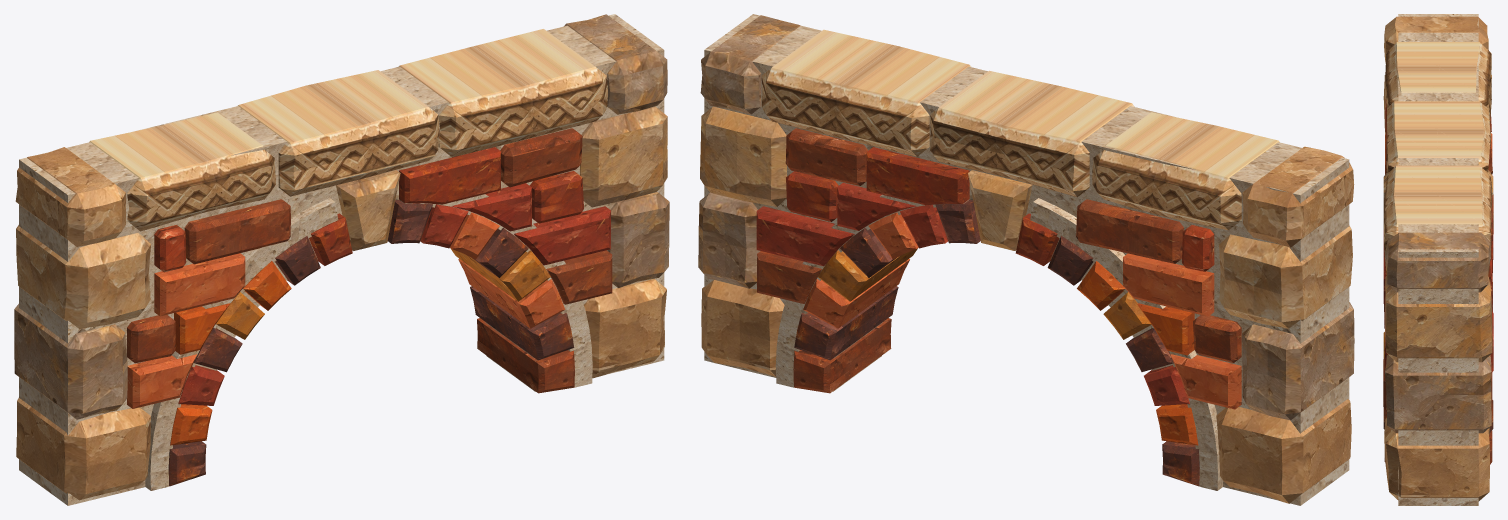
File: arch__clay_brick.glb
The picture shows the model from 3 angles, left to right: view 1: azimuth 30°, elevation 25°; view 2: azimuth 150°, elevation 25°; view 3: azimuth 270°, elevation 25°; orthographic projection. The views are drawn at different scales.
Parts seen in each view (by area): view 1: model; view 2: model; view 3: model.
Part boxes in pixels (bbox=[...]): model: bbox=[14, 14, 669, 505]; model: bbox=[698, 14, 1354, 505]; model: bbox=[1383, 14, 1493, 505].
Bounding box in the file's own units: 1.98 × 0.984 × 0.3856.
Materials: 14 (14 with a texture image).
